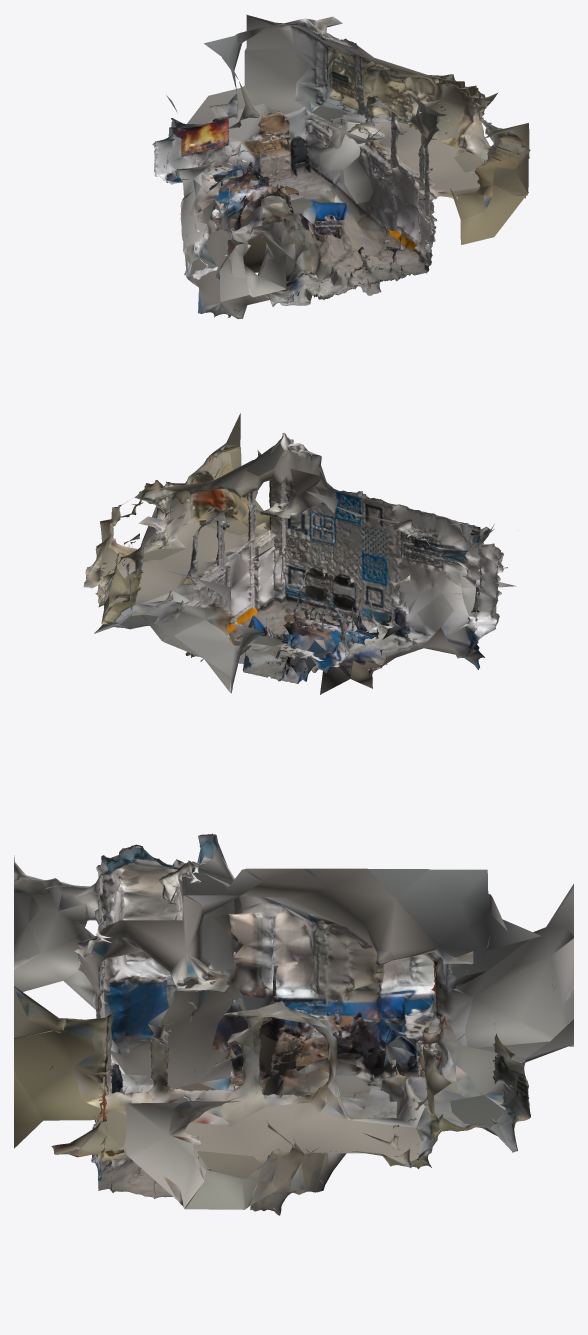
The model's file is copp.glb.
3 views of the same model, one above another, from view 1: azimuth 30°, elevation 25°; view 2: azimuth 150°, elevation 25°; view 3: azimuth 270°, elevation 25° (orthographic). The views are drawn at different scales.
Visible parts, largest first — view 1: Mesh_0_Part_0; view 2: Mesh_0_Part_0; view 3: Mesh_0_Part_0.
Part boxes in pixels (x1,y1,x2,y2): Mesh_0_Part_0: [152, 14, 530, 319]; Mesh_0_Part_0: [83, 413, 518, 694]; Mesh_0_Part_0: [14, 833, 573, 1215].
Bounding box in the file's own units: 9.55 × 4.55 × 7.96.
1 material, 1 textured.
